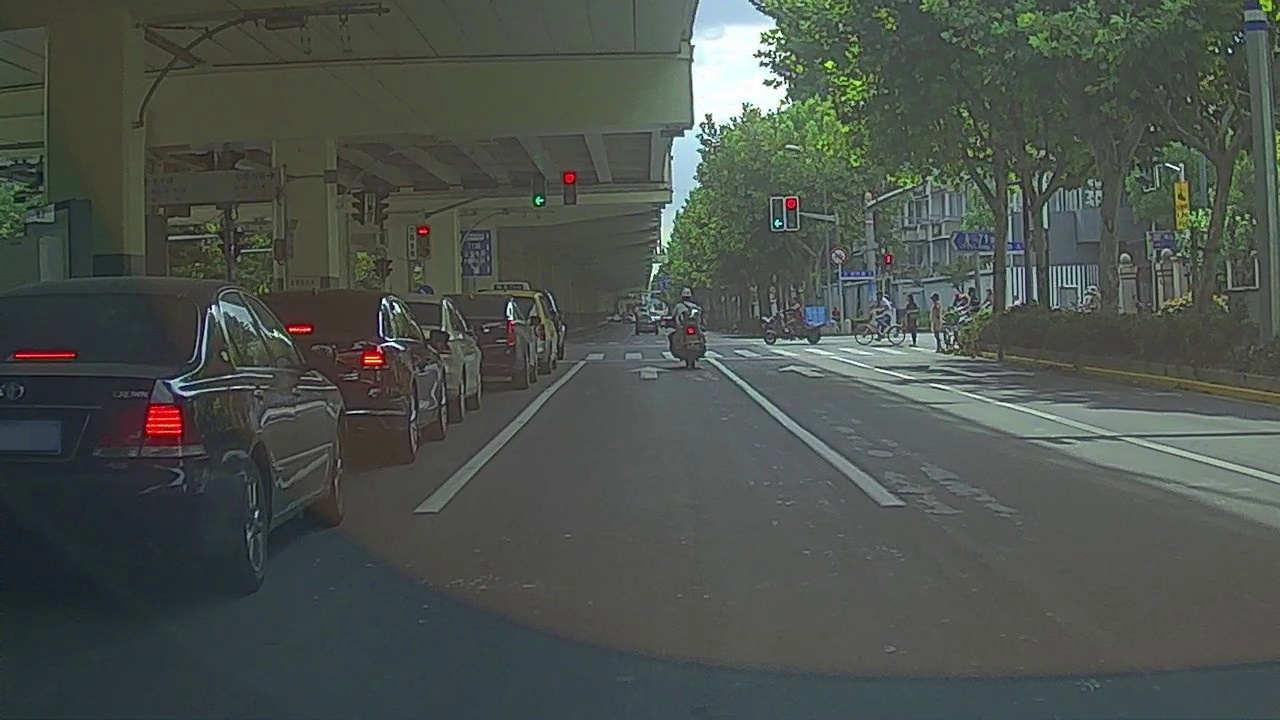traffic_light: (532, 173, 546, 206), (563, 171, 576, 206), (785, 197, 798, 230), (771, 199, 784, 230)
